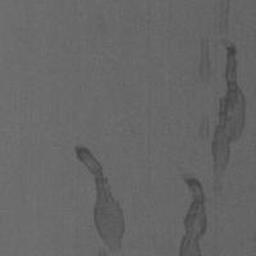Water spot: (197, 0, 248, 195), (74, 142, 127, 256), (178, 175, 209, 256), (248, 227, 256, 244)
